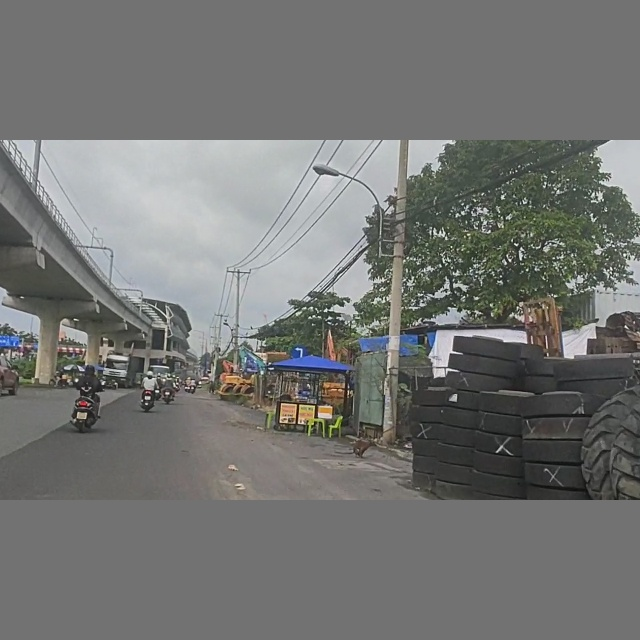R.301e: (291, 345, 307, 359)
